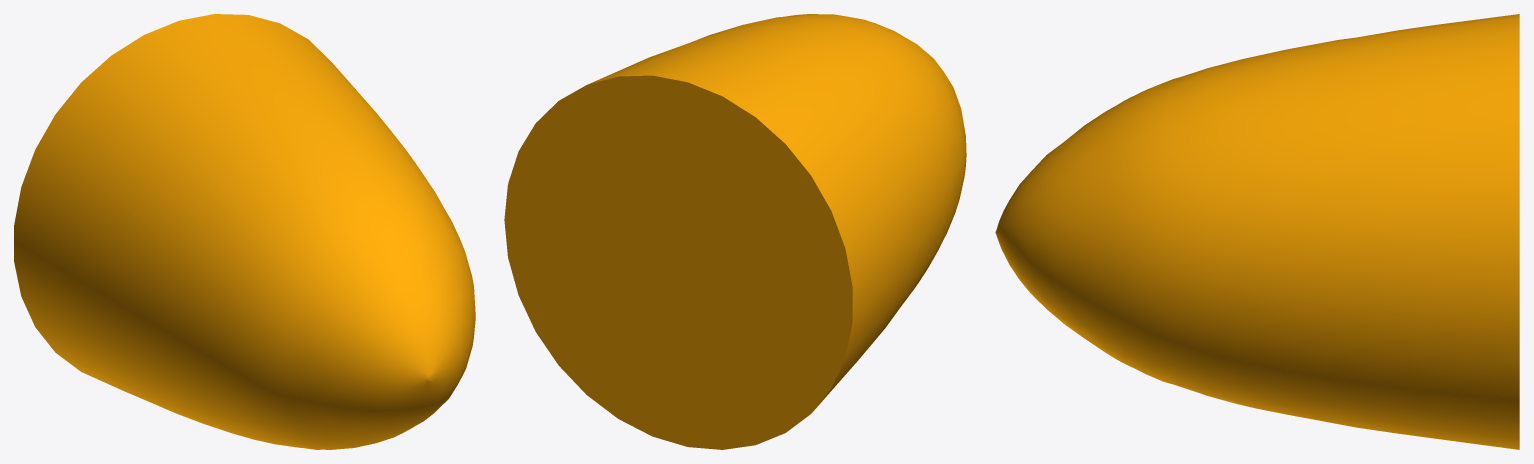
Rendered from PolluxForeBody.gltf.
3 renders of one model, left to right at view 1: azimuth 30°, elevation 25°; view 2: azimuth 150°, elevation 25°; view 3: azimuth 270°, elevation 25°, orthographic. The views are drawn at different scales.
Parts seen in each view (by area): view 1: ForeBody_LowerNUpper; view 2: ForeBody_LowerNUpper; view 3: ForeBody_LowerNUpper.
Boxes of the visible parts, x1,y1,x2,y2 form: ForeBody_LowerNUpper: [14, 14, 475, 449]; ForeBody_LowerNUpper: [504, 14, 966, 449]; ForeBody_LowerNUpper: [995, 14, 1519, 449].
Bounding box in the file's own units: 0.2494 × 0.2497 × 0.3.
